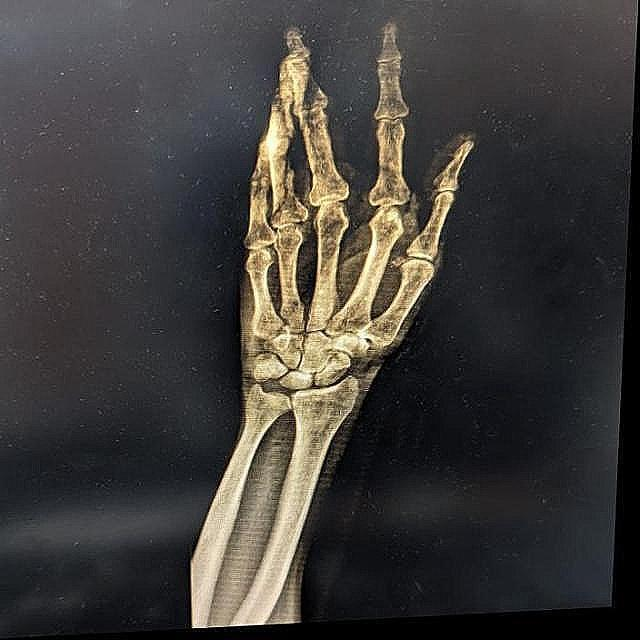bone: (260, 144, 318, 228), (254, 82, 308, 164)
